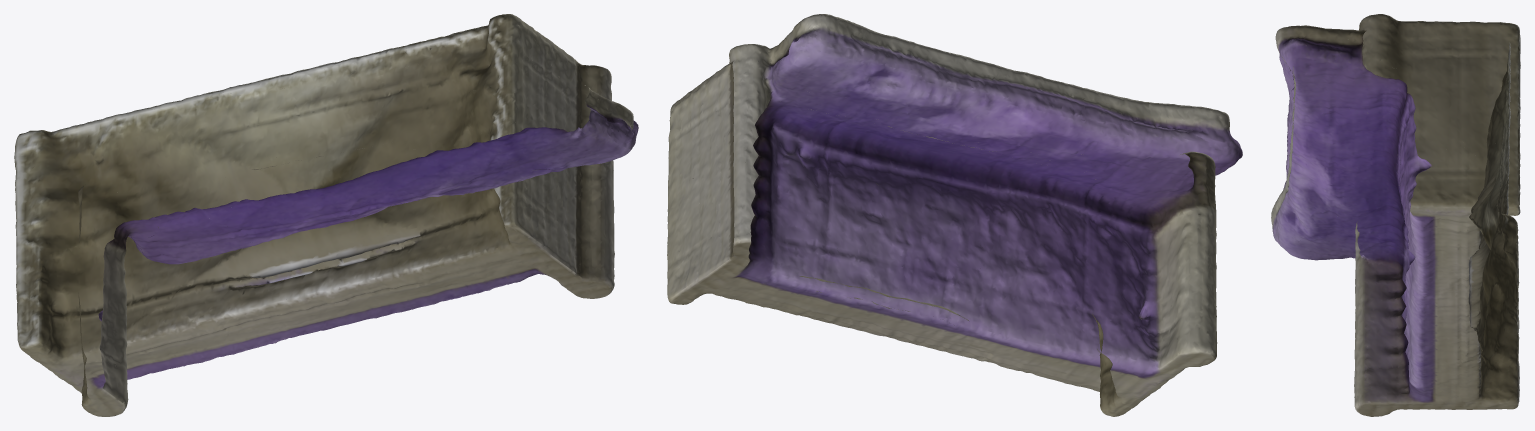
File: sofa.glb
3 views of the same model, side by side, from view 1: azimuth 30°, elevation 25°; view 2: azimuth 150°, elevation 25°; view 3: azimuth 270°, elevation 25° (orthographic). The views are drawn at different scales.
Size of the model in its own units: 1 by 0.4255 by 0.4821.
